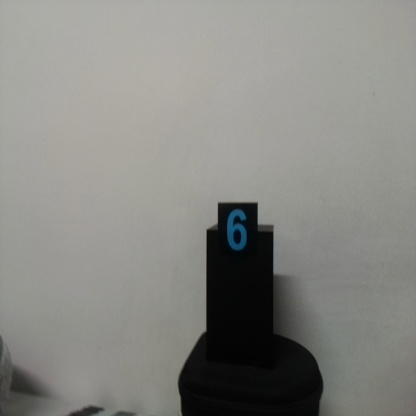id_6: (218, 202, 259, 268)
